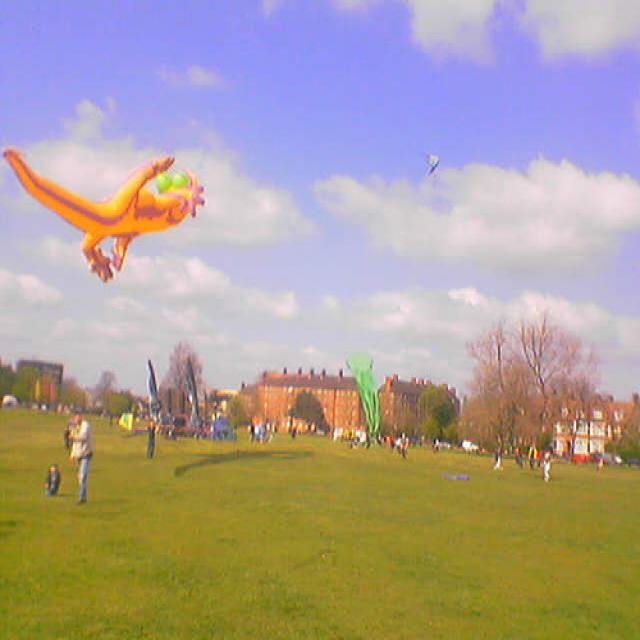Vehicle: (440, 441, 451, 448)
